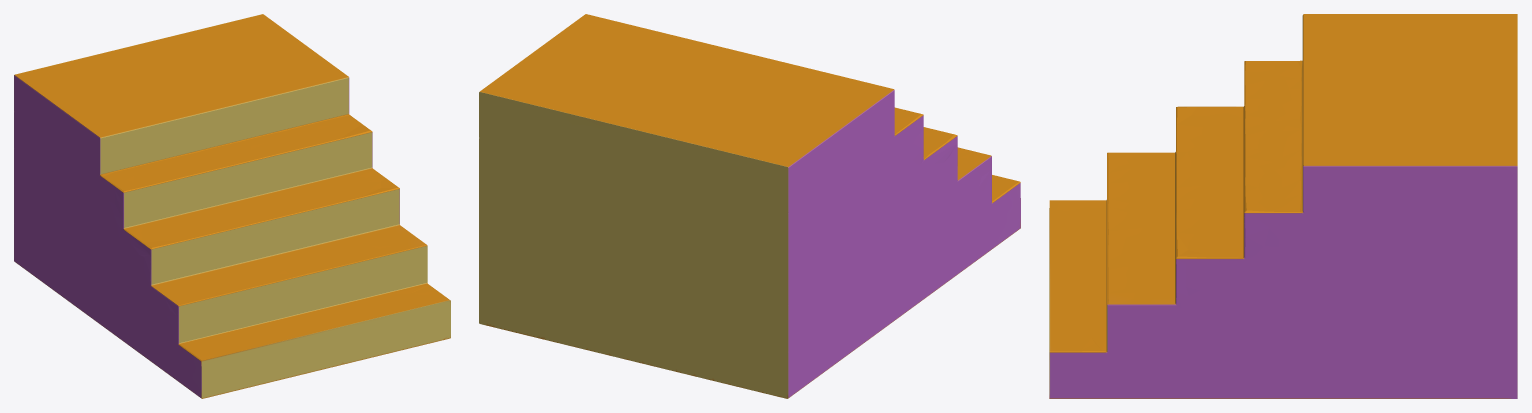
Rendered from GEO_Stock_04_LOD1.glb.
3 renders of one model, left to right at view 1: azimuth 30°, elevation 25°; view 2: azimuth 150°, elevation 25°; view 3: azimuth 270°, elevation 25°, orthographic. The views are drawn at different scales.
Visible parts, largest first — view 1: Box; view 2: Box; view 3: Box.
Part boxes in pixels (x1=…): Box: x1=14, y1=14, x2=450, y2=398; Box: x1=479, y1=14, x2=1020, y2=398; Box: x1=1049, y1=14, x2=1517, y2=398.
Bounding box in the file's own units: 1 × 0.7173 × 1.3.
